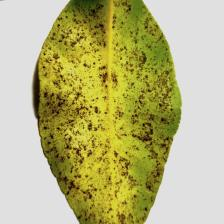canker: (29, 33, 178, 177)
